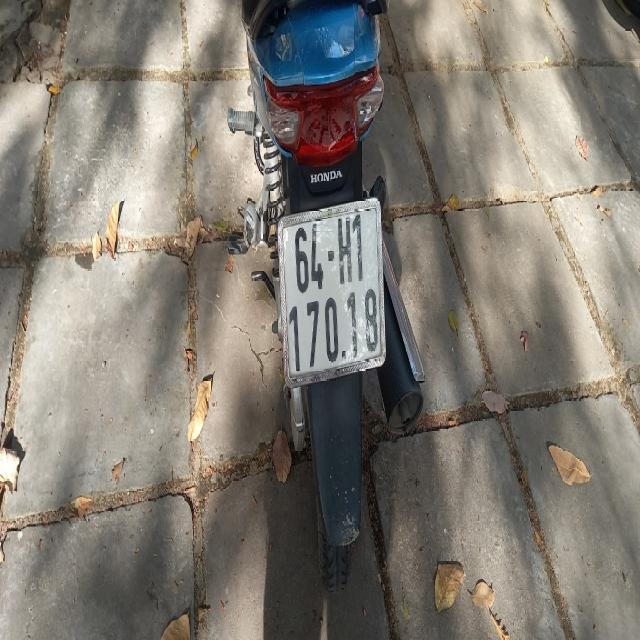0: (325, 297, 338, 363)
1: (288, 304, 300, 373), (346, 291, 358, 357), (352, 214, 362, 281)
4: (312, 224, 324, 290)
6: (294, 227, 310, 293)
7: (306, 300, 319, 371)
8: (364, 289, 378, 354)
H: (338, 215, 352, 287)
